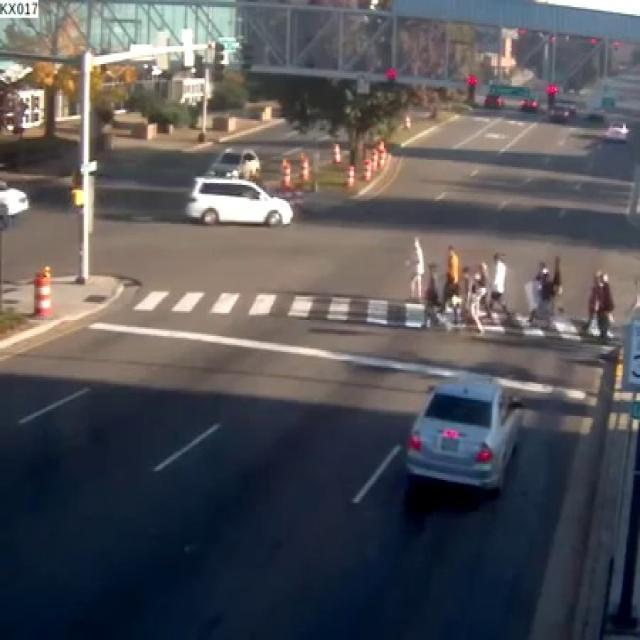car: (404, 376, 518, 488), (184, 176, 292, 224), (202, 145, 259, 178)
red_light: (544, 79, 557, 107), (466, 73, 476, 102), (383, 64, 396, 80)
stop_line: (88, 320, 470, 375), (496, 375, 584, 399)
